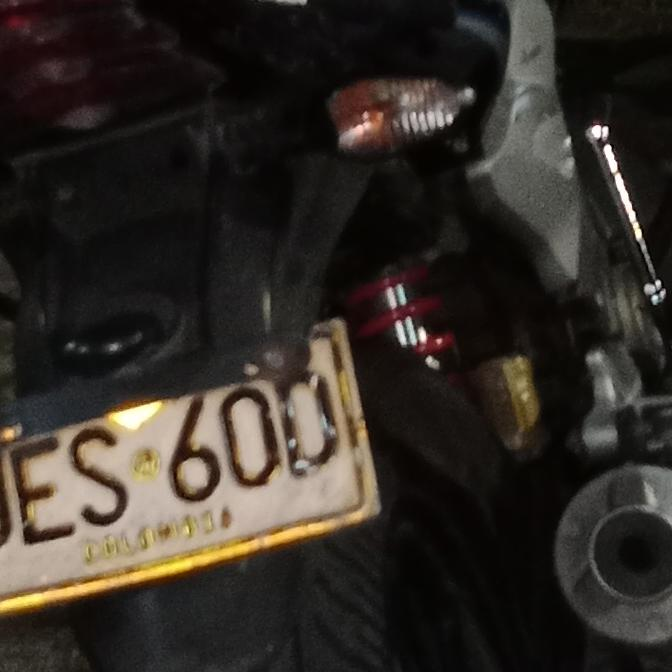plates: (0, 327, 368, 602)
